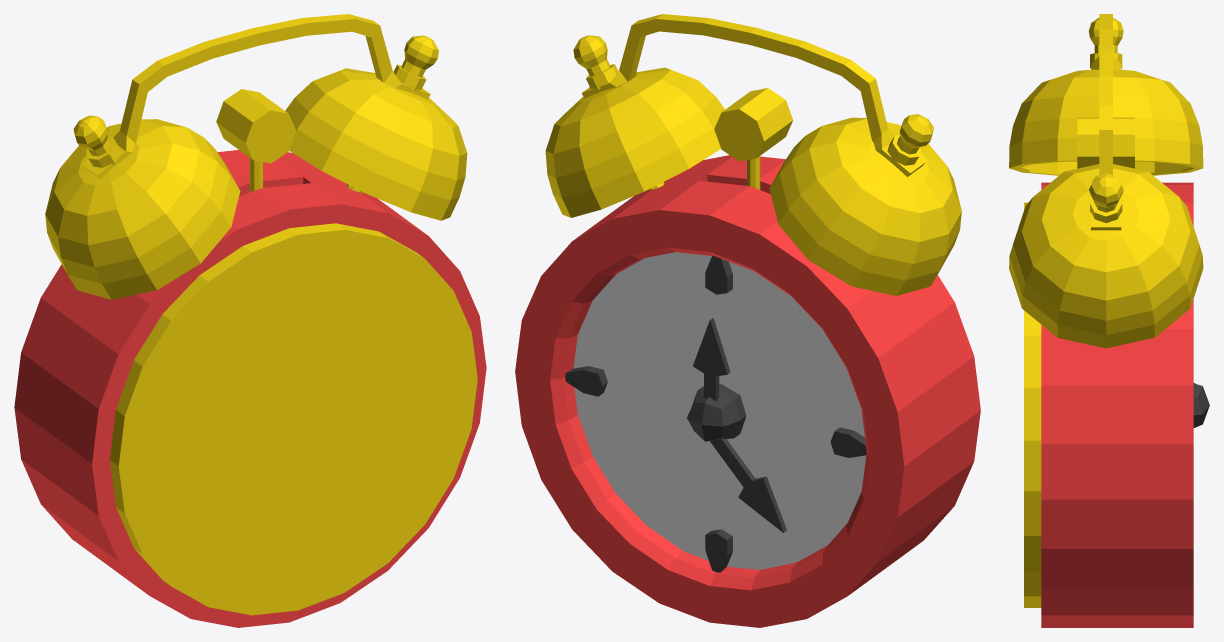
File: Clock.fbx
3 renders of one model, left to right at view 1: azimuth 30°, elevation 25°; view 2: azimuth 150°, elevation 25°; view 3: azimuth 270°, elevation 25°, orthographic.
Visible parts, largest first — view 1: Empty_Mesh; view 2: Empty_Mesh; view 3: Empty_Mesh.
Part boxes in pixels (x1,y1,x2,y2): Empty_Mesh: [14, 14, 486, 627]; Empty_Mesh: [515, 14, 980, 627]; Empty_Mesh: [1009, 14, 1209, 627].
Size of the model in its own units: 256 by 350 by 114.
